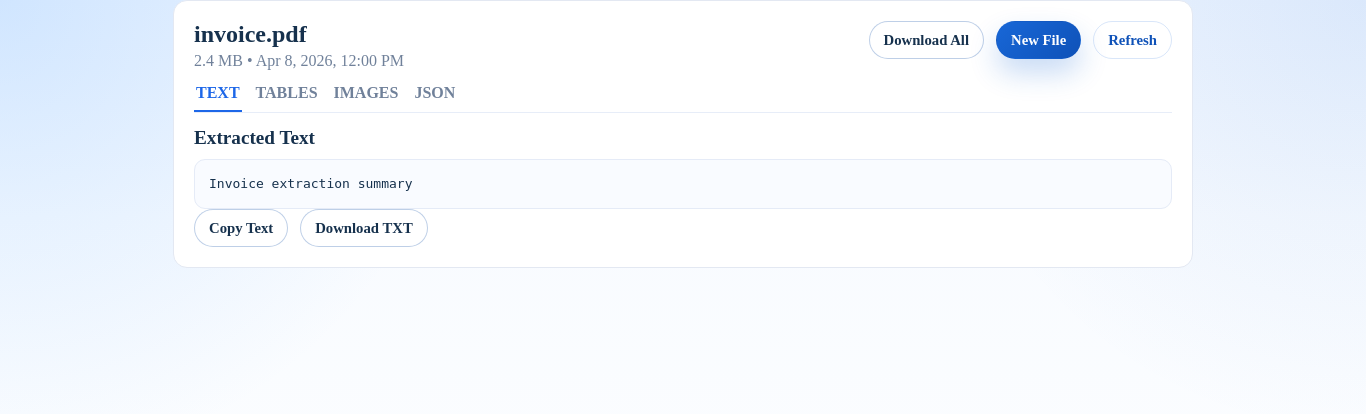
JobDetailPage › shows an honest empty state when no images are extracted
Click the tab "IMAGES": (366,98) [332, 84, 400, 112]
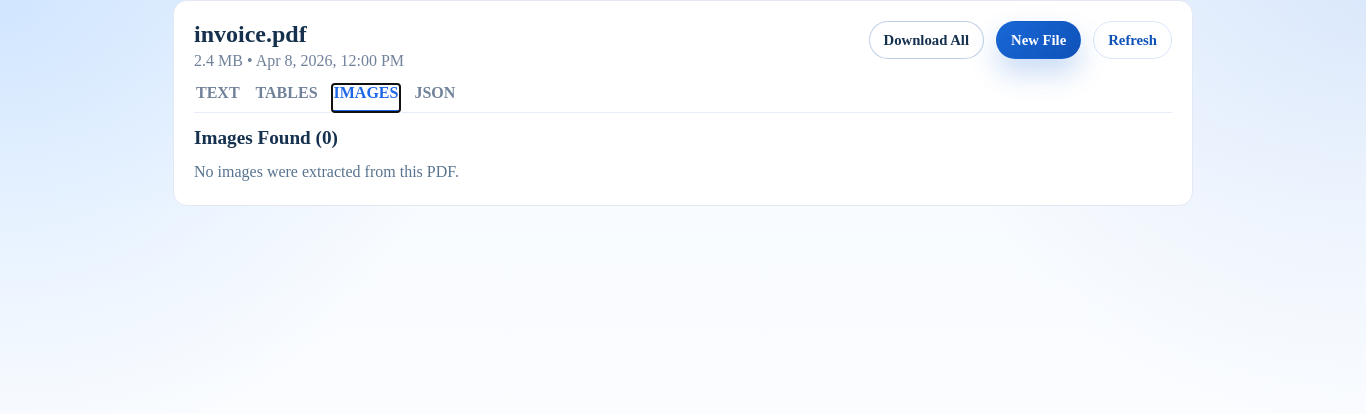
expect the text "No images were extracted from this PDF." is shown: met, box [194, 163, 459, 180]
